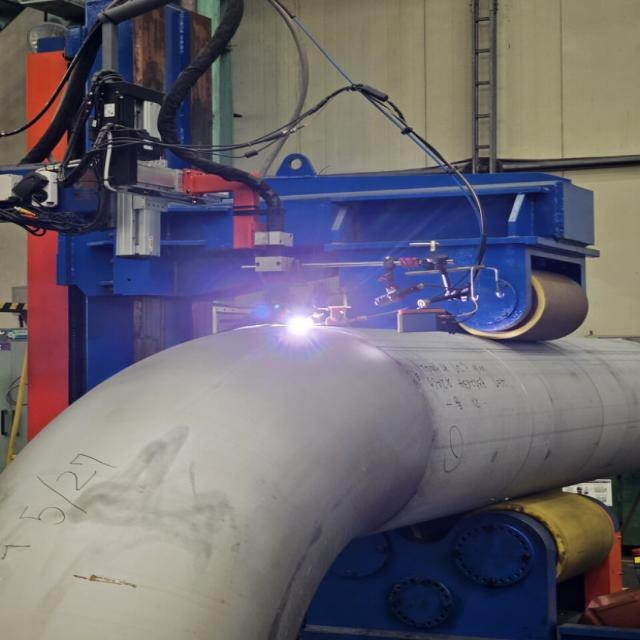welding: (283, 312, 315, 338)
